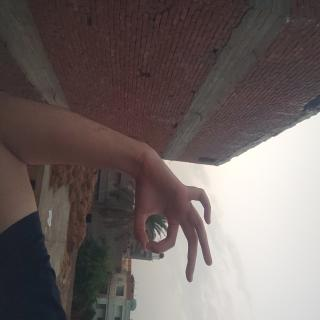Space: (105, 140, 214, 260)
